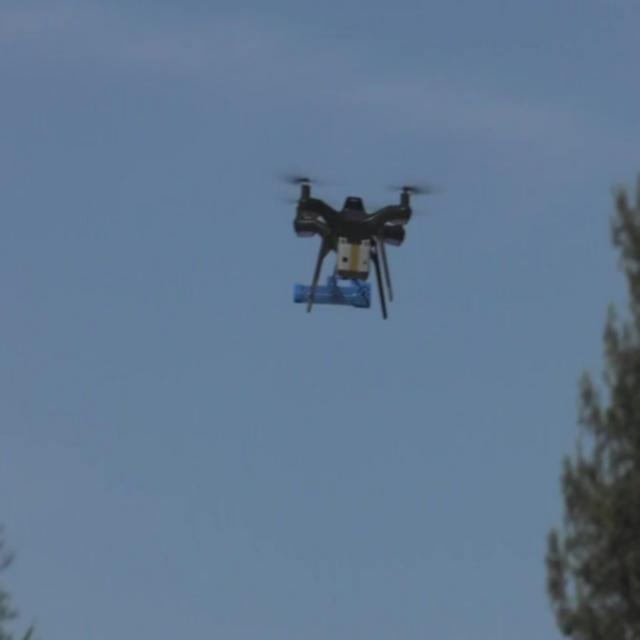UAV: (292, 175, 412, 319)
